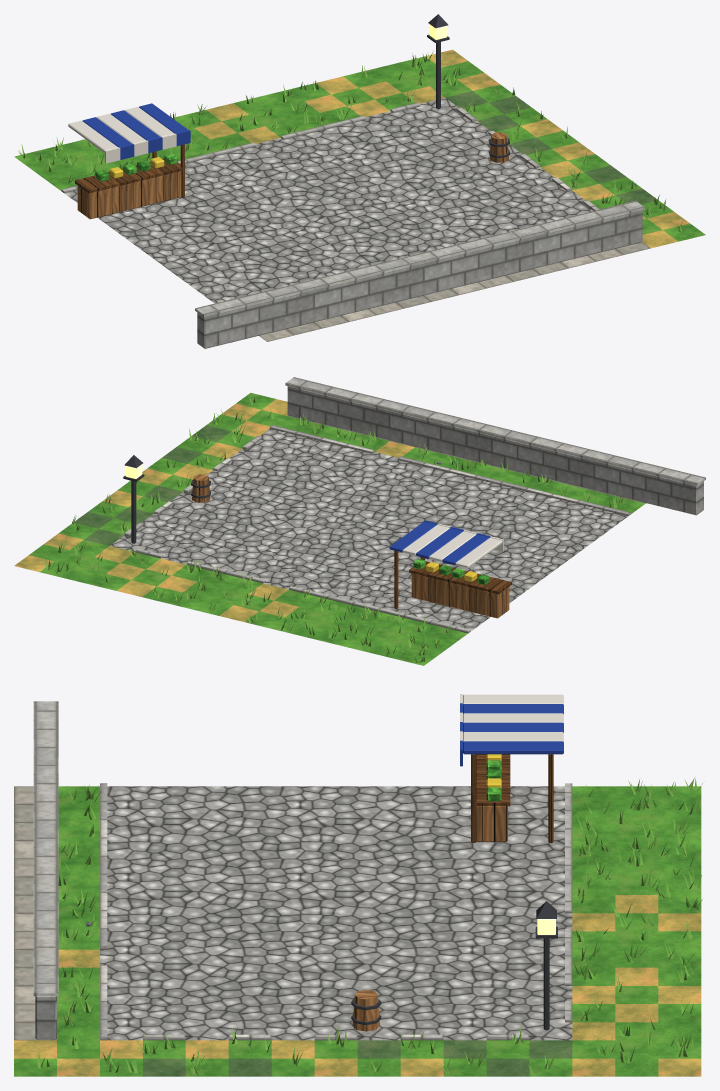
Rendered from chunk_7_9.glb.
3 renders of one model, top to bottom at view 1: azimuth 30°, elevation 25°; view 2: azimuth 150°, elevation 25°; view 3: azimuth 270°, elevation 25°, orthographic. The views are drawn at different scales.
Parts seen in each view (by area): view 1: chunk_7_9; view 2: chunk_7_9; view 3: chunk_7_9.
Part boxes in pixels (bbox=[...]): chunk_7_9: bbox=[14, 14, 705, 348]; chunk_7_9: bbox=[14, 377, 705, 665]; chunk_7_9: bbox=[14, 694, 702, 1076].
Size of the model in its own units: 18.05 by 3.35 by 16.11.
Materials: 18 (12 with a texture image).
